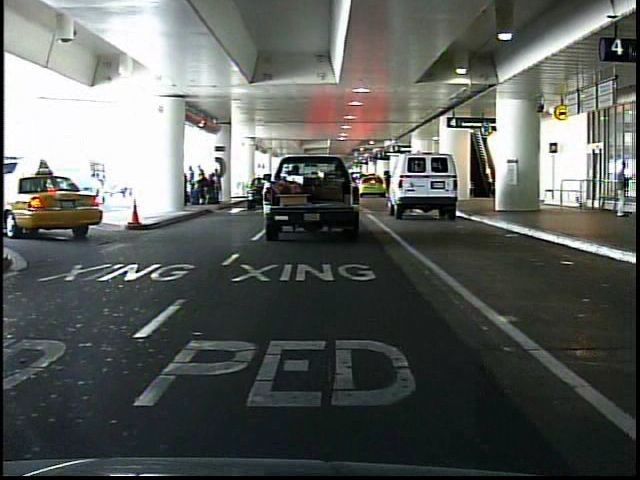person: (607, 158, 634, 220)
